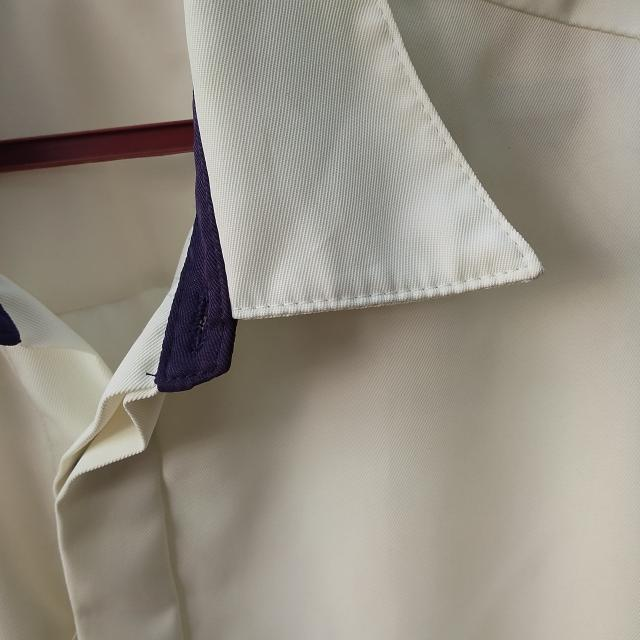education_male_uniform: (0, 0, 582, 575), (1, 0, 570, 568), (183, 0, 612, 372)
